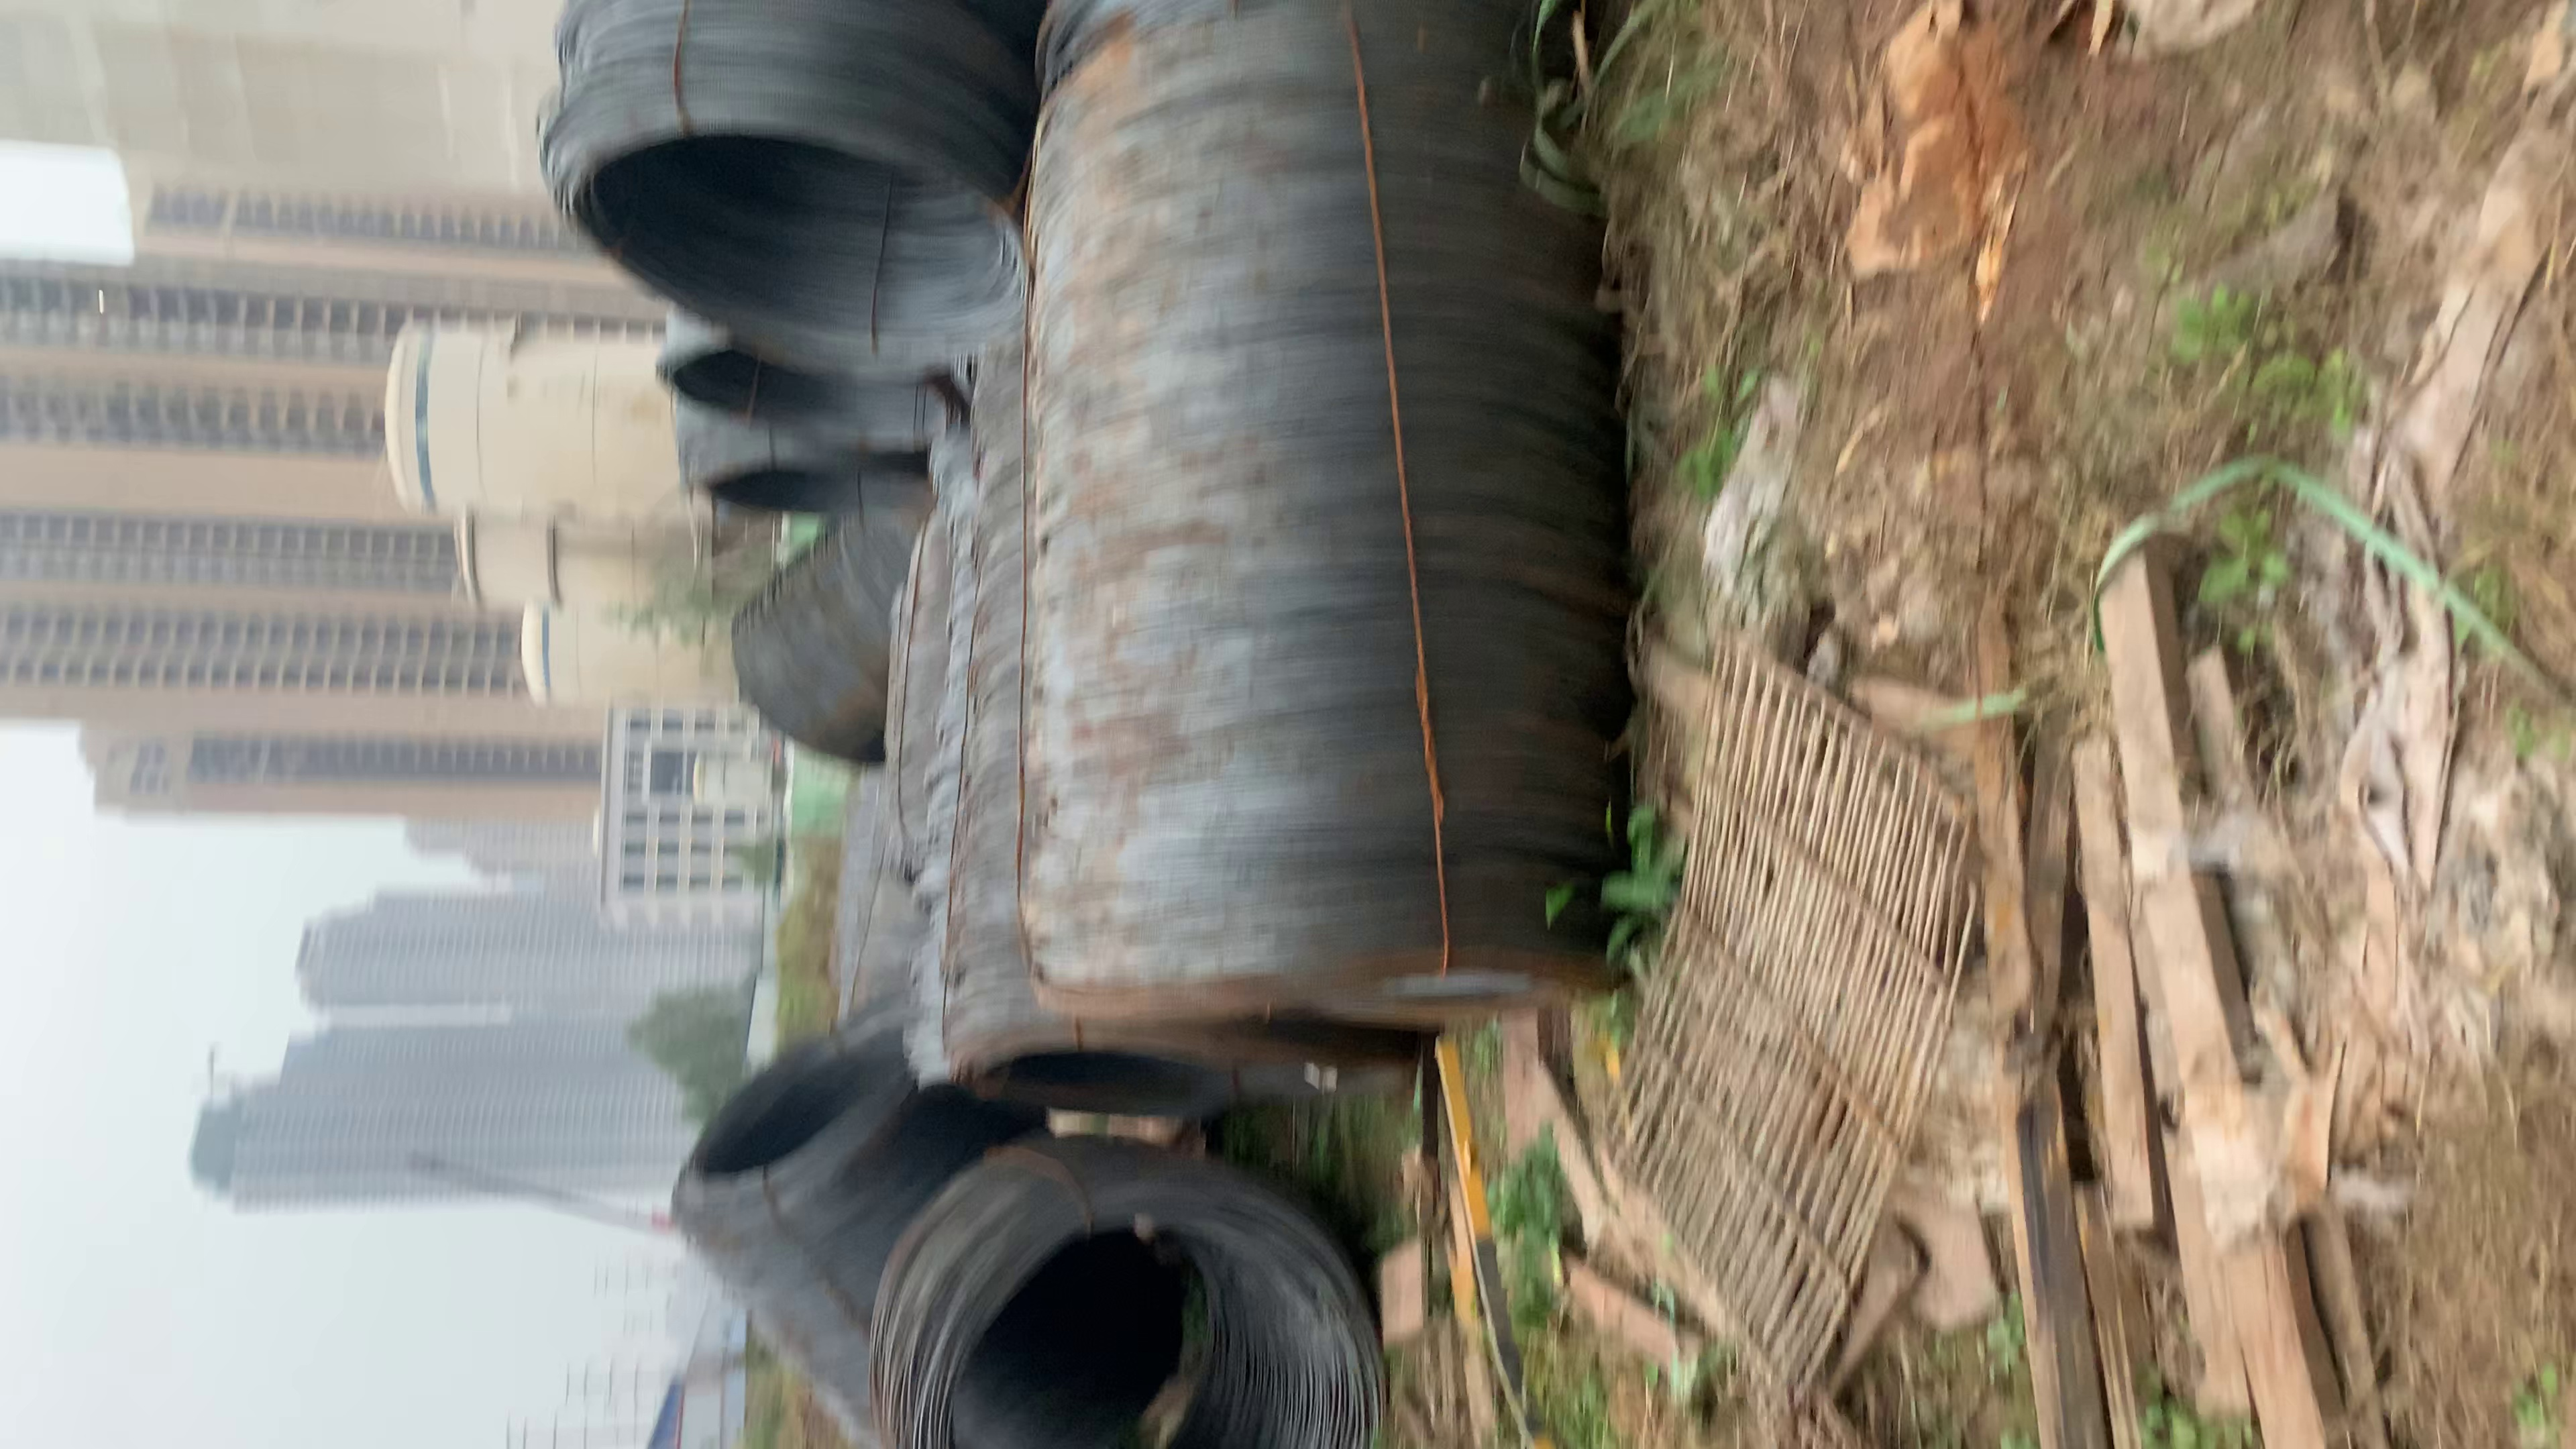coil: (531, 115, 1046, 375), (908, 1192, 1355, 1449), (1113, 941, 1598, 1054), (948, 1021, 1332, 1162), (651, 982, 908, 1189), (648, 345, 978, 469), (699, 455, 922, 533)
